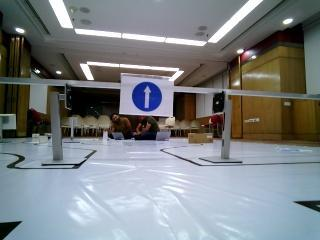straight: (122, 73, 171, 117)
